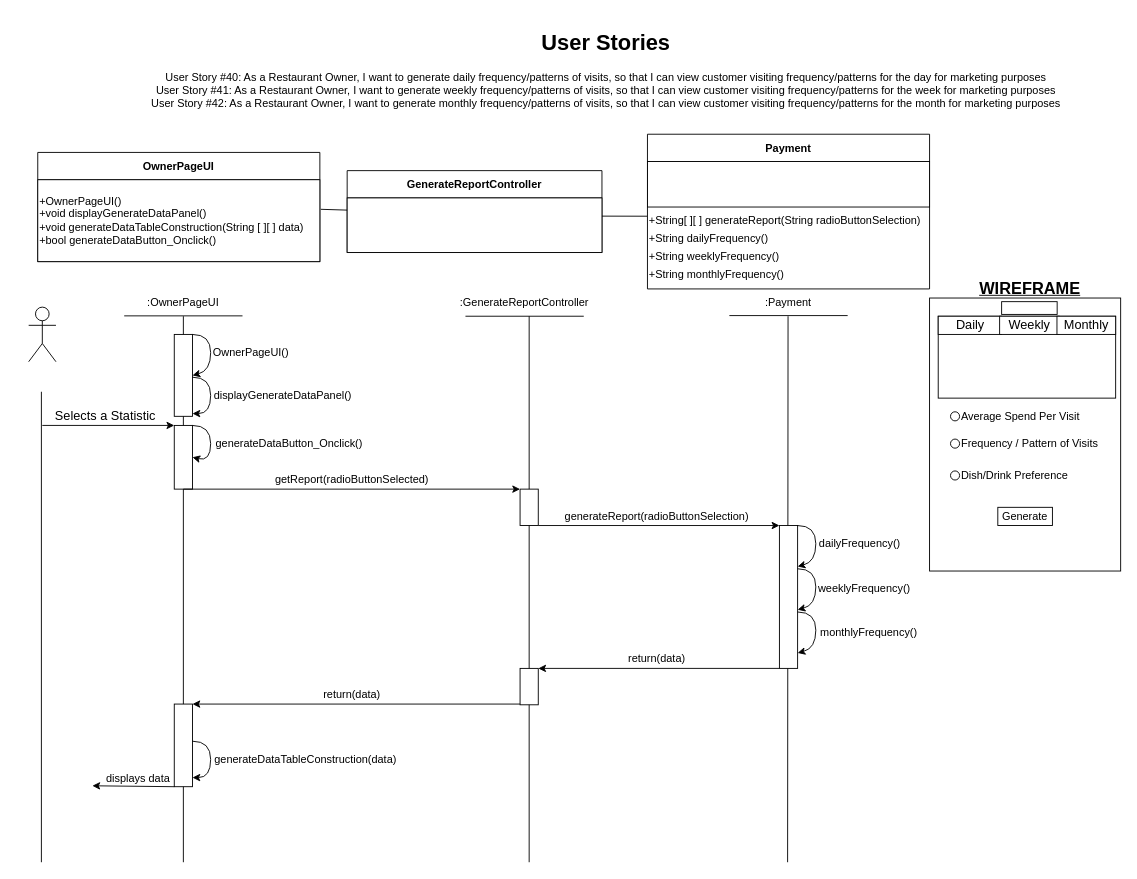
The diagram is 1137 pixels wide and 879 high, and some of its shapes have lost their labels. The shapes that lost their labels are listed below. From the top down, each one's centre as x and y in pixels, then its label:
At point 788,184: "-String radioButtonSelection -String[ ][ ] data".
At point 474,225: "+String[ ][ ] getReport(String radioButtonSelected)".
At point 1029,307: "Log Out".
At point 42,334: "Restaurant Owner".
